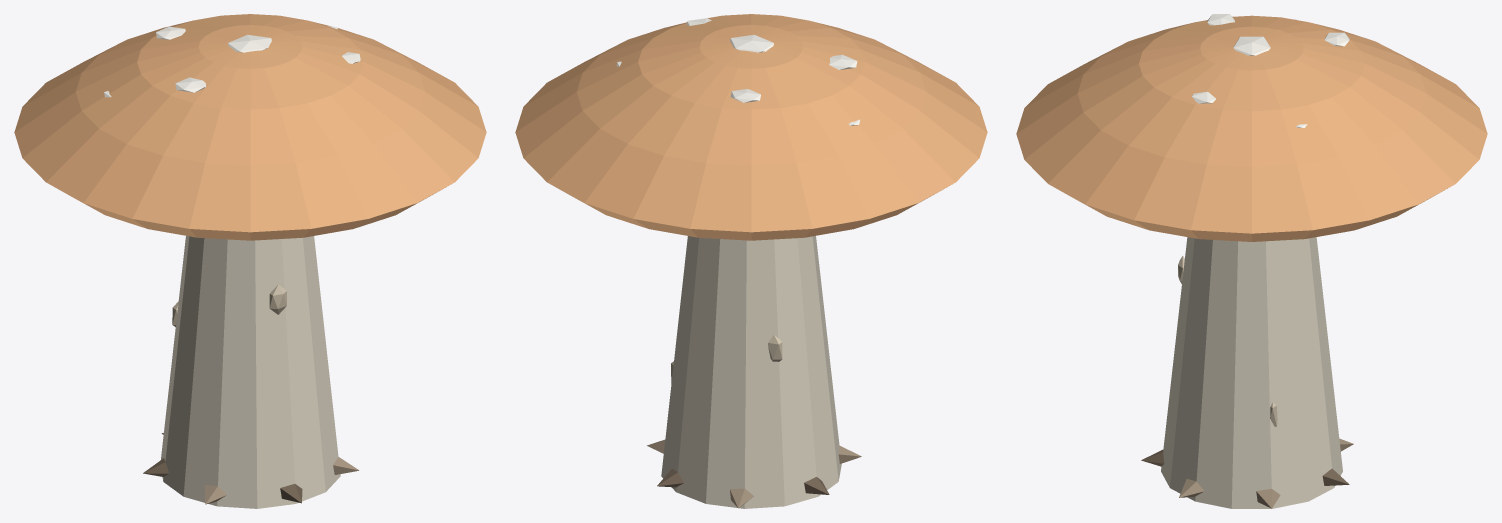
File: tree-mushroom-org.glb
3 renders of one model, left to right at view 1: azimuth 30°, elevation 25°; view 2: azimuth 150°, elevation 25°; view 3: azimuth 270°, elevation 25°, orthographic.
Parts seen in each view (by area): view 1: tree-mushroom-org; view 2: tree-mushroom-org; view 3: tree-mushroom-org.
Part boxes in pixels (x1,y1,x2,y2): tree-mushroom-org: (14,14,486,508); tree-mushroom-org: (515,14,987,508); tree-mushroom-org: (1016,14,1487,508).
Size of the model in its own units: 3.52 by 3.54 by 3.52.
